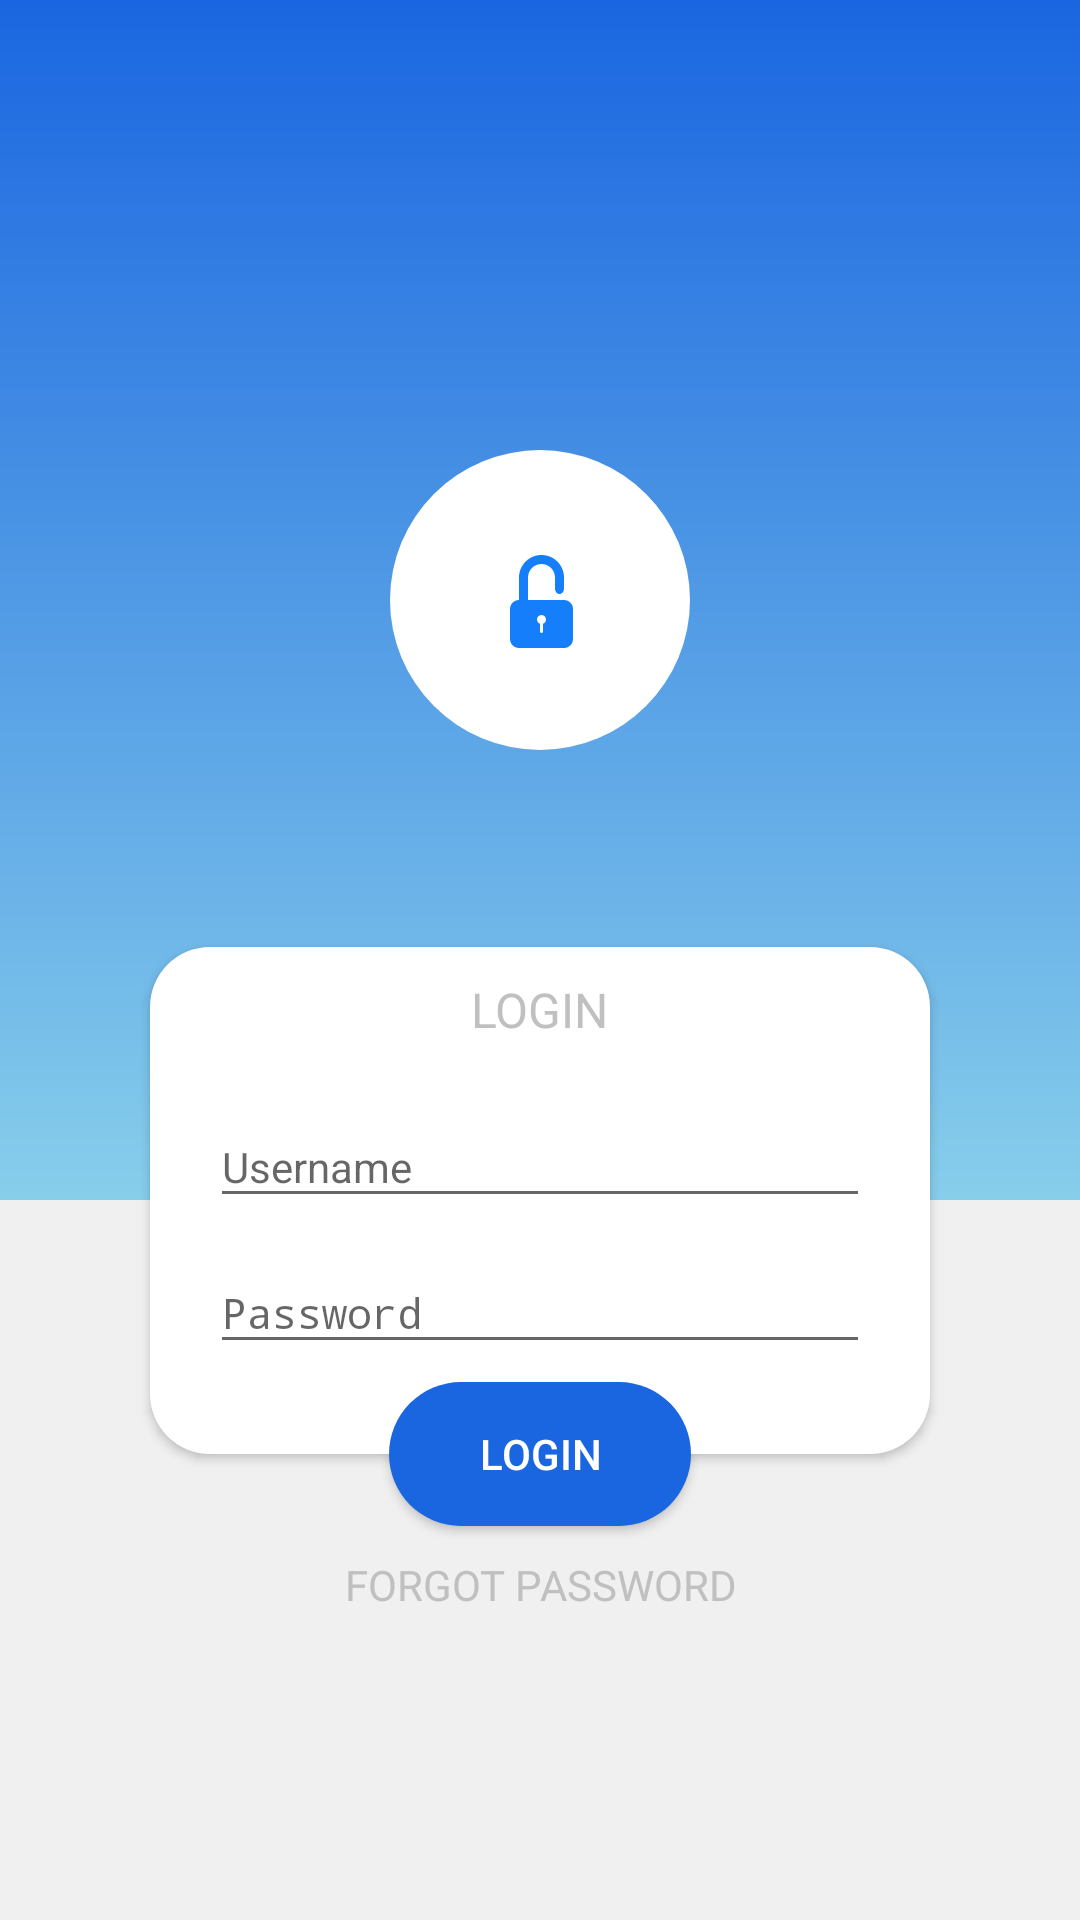

Screen size 1080px x 1920px. Icon name, then its center in pixels as (x,y):
unlock: (540,600)
